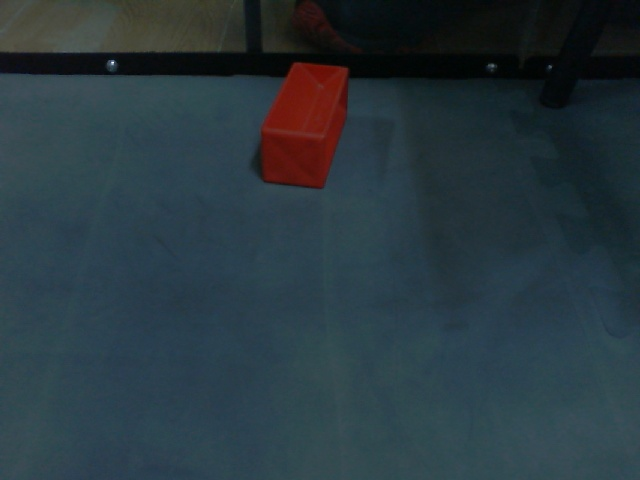RedSample: (258, 59, 351, 195)
